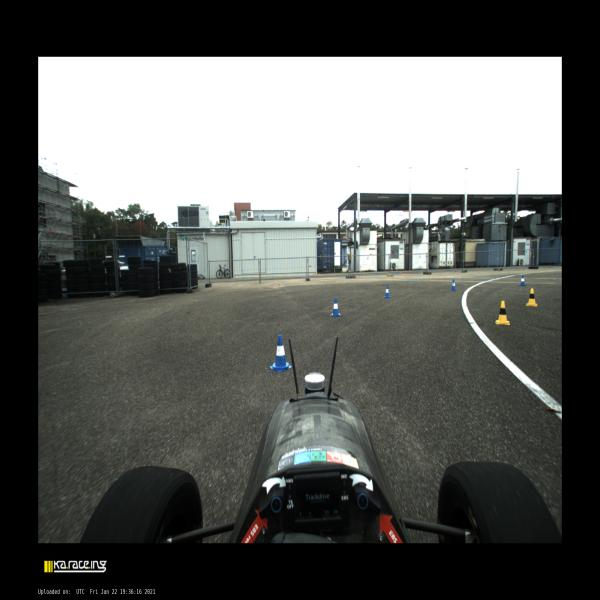blue_cone: (270, 334, 292, 372), (330, 298, 341, 317), (383, 285, 392, 299), (450, 279, 457, 291), (520, 274, 526, 286)
yellow_cone: (495, 300, 510, 326), (525, 288, 538, 307)
